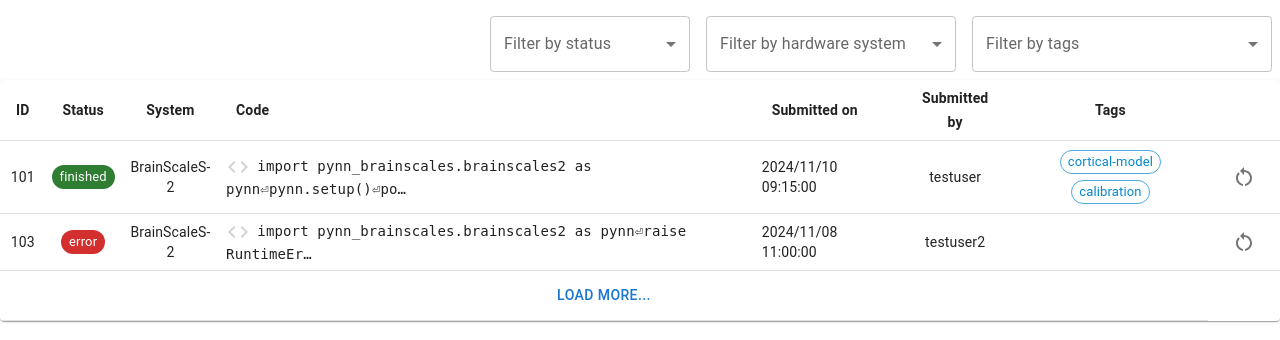
Test: JobList › filtering by status to 'finished' leaves only finished jobs
This screenshot has width=1280, height=340.
Expected: the text "101" is shown, top-left (11, 169), bottom-right (35, 185)
Expected: the text "103" is shown, top-left (11, 234), bottom-right (35, 250)
Press the mouse on the dropdown named "Filter by status" next to "Filter by status" at point(590, 44), box top-left (490, 16), bottom-right (690, 72)
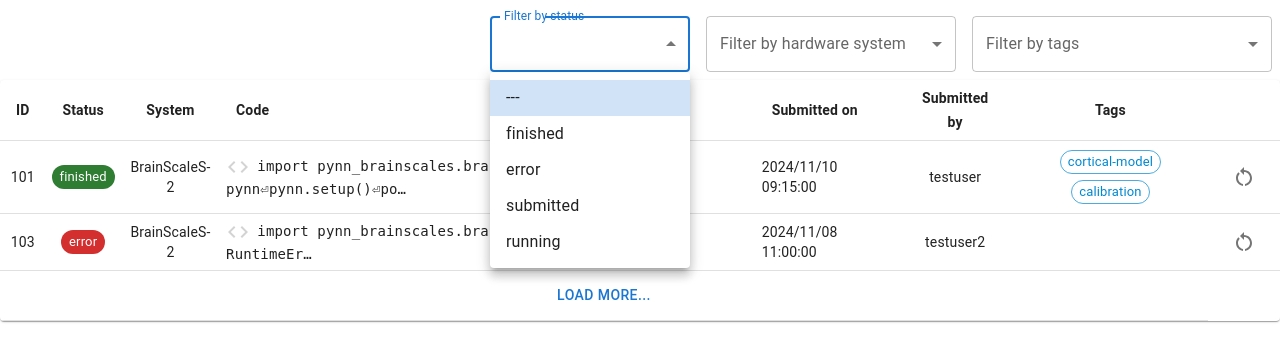
Click the option "finished".
click(535, 134)  # box top-left (506, 124), bottom-right (564, 143)
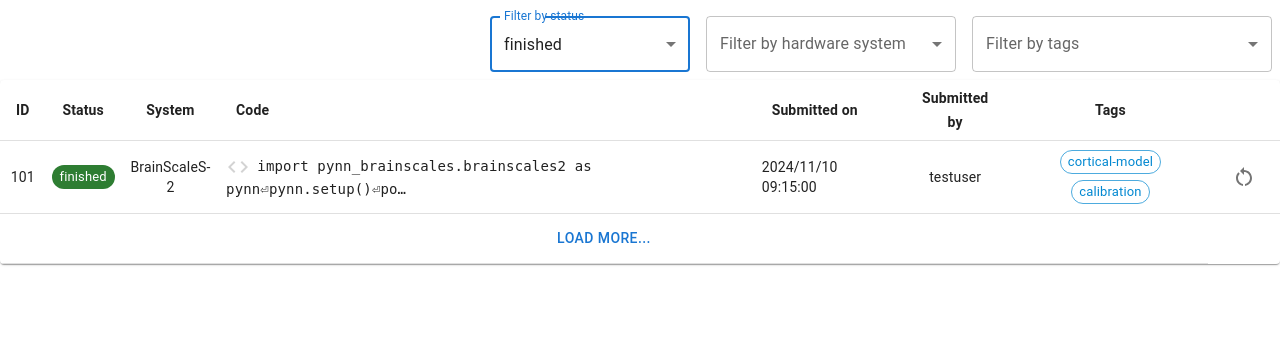
Expected: the text "101" is shown, top-left (11, 169), bottom-right (35, 185)
Now the link "103" is gone
